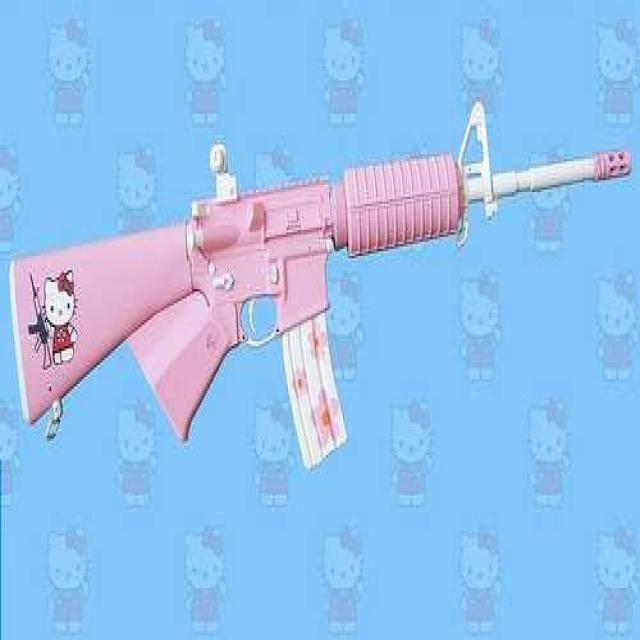Rifle: (6, 78, 635, 519)
